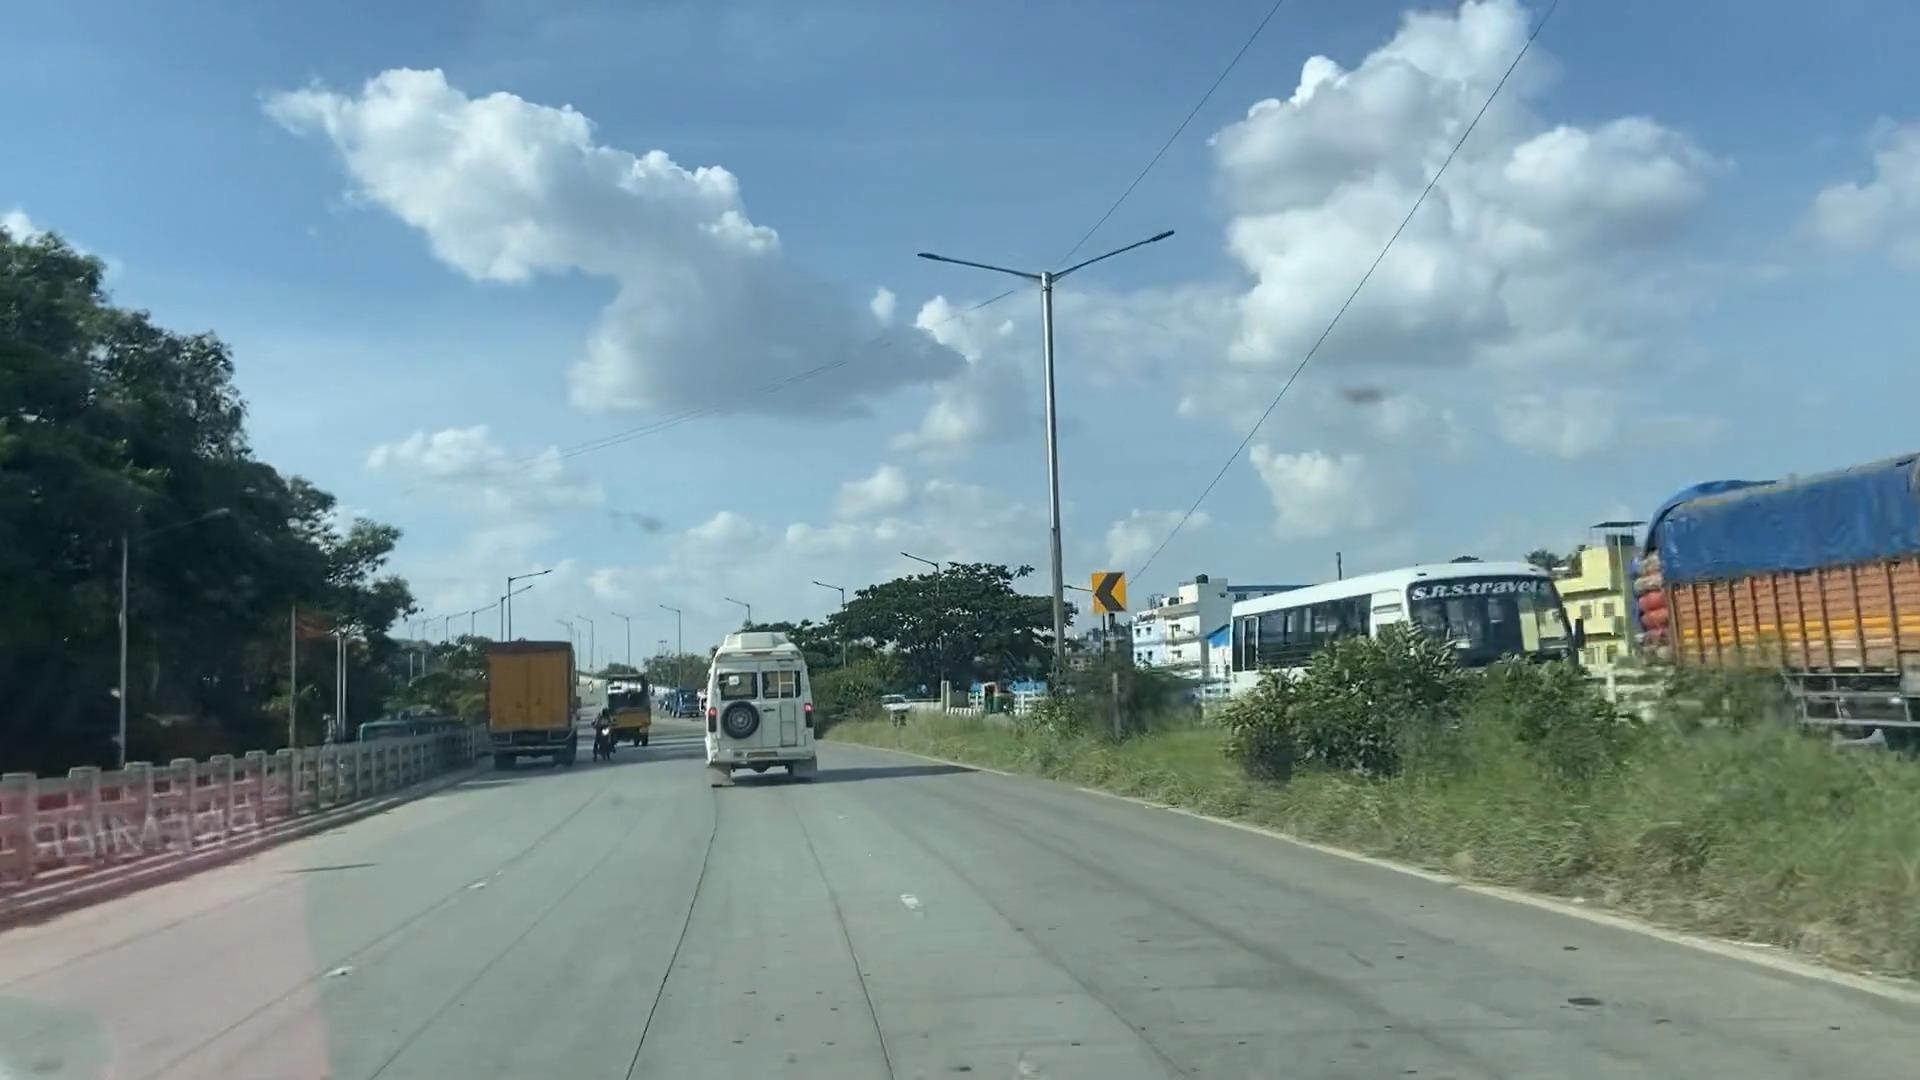HMV: (700, 630, 812, 787), (472, 637, 582, 773)
